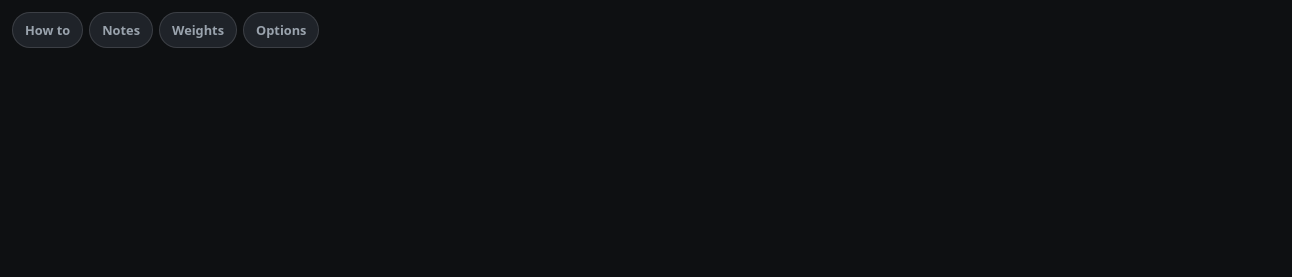
Scenario: the Plates panel › on a machine says to set the pin before a superset round, and that nothing is loaded otherwise
The image size is (1292, 277).
Click the tab with test id "plates-tab" at coordinates (198, 30), box 159,12 -> 237,48
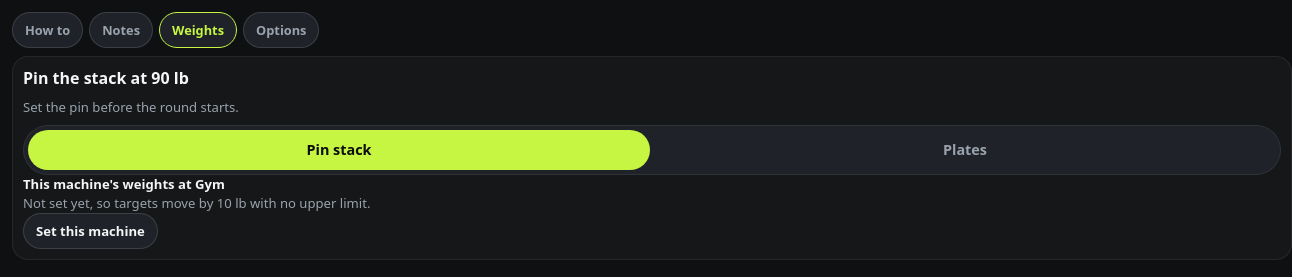
Expected: the panel with test id "plate-math" shows "Set the pin before the round starts.", 23,98 -> 239,116
